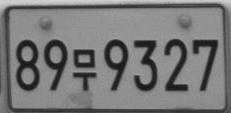2: (162, 38, 189, 91)
3: (133, 39, 158, 91)
7: (192, 38, 218, 91)
8: (15, 38, 40, 91)
9: (102, 38, 129, 91), (42, 38, 68, 90)
무: (72, 48, 97, 91)
